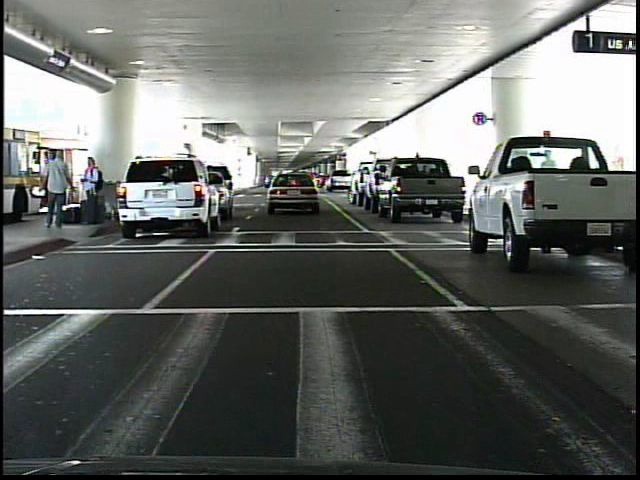person: (42, 149, 76, 232), (80, 155, 105, 228)
